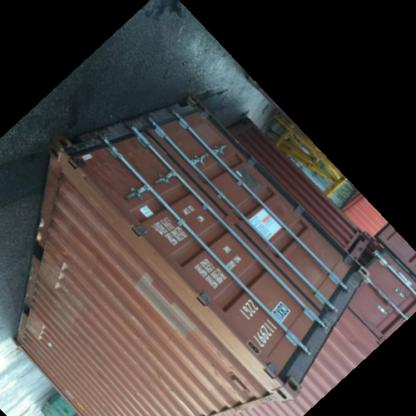Damage: (53, 146, 102, 242), (51, 258, 75, 300), (35, 326, 53, 356)
